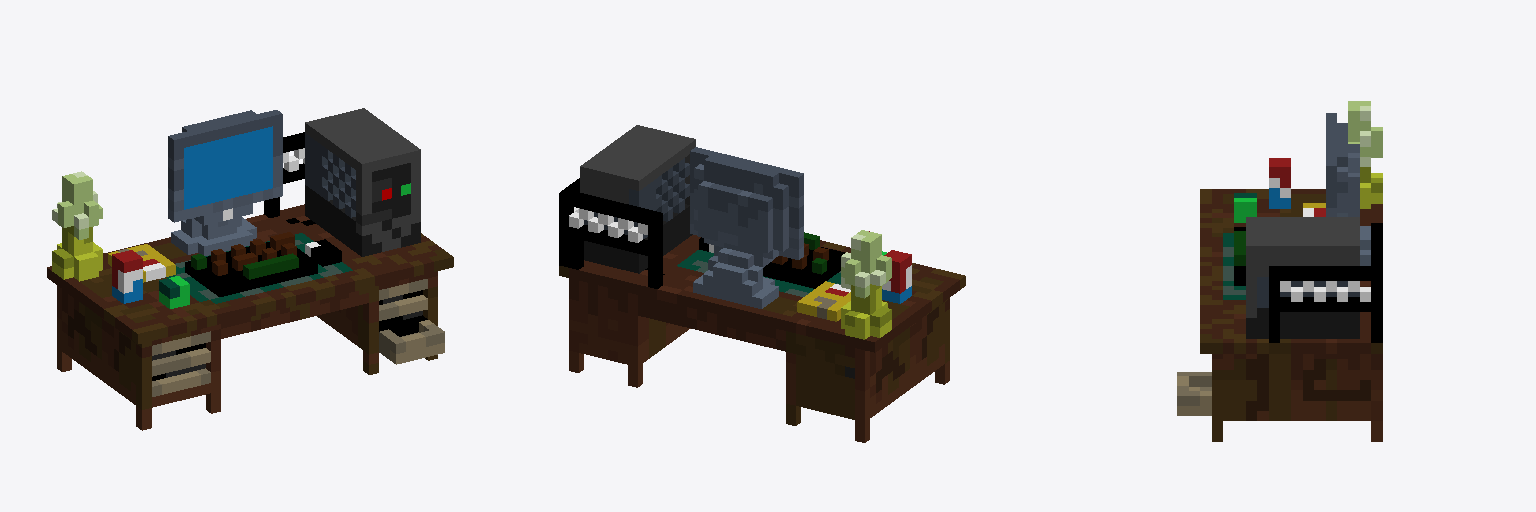
3 views of the same model, side by side, from view 1: azimuth 30°, elevation 25°; view 2: azimuth 150°, elevation 25°; view 3: azimuth 270°, elevation 25° (orthographic).
Parts seen in each view (by area): view 1: Table_Monitor; view 2: Table_Monitor; view 3: Table_Monitor.
Boxes of the visible parts, x1=… form: Table_Monitor: x1=47, y1=108, x2=453, y2=430; Table_Monitor: x1=559, y1=125, x2=965, y2=442; Table_Monitor: x1=1177, y1=101, x2=1382, y2=441.
Bounding box in the file's own units: 3.2 × 2.2 × 1.8.
1 materials, 1 textured.